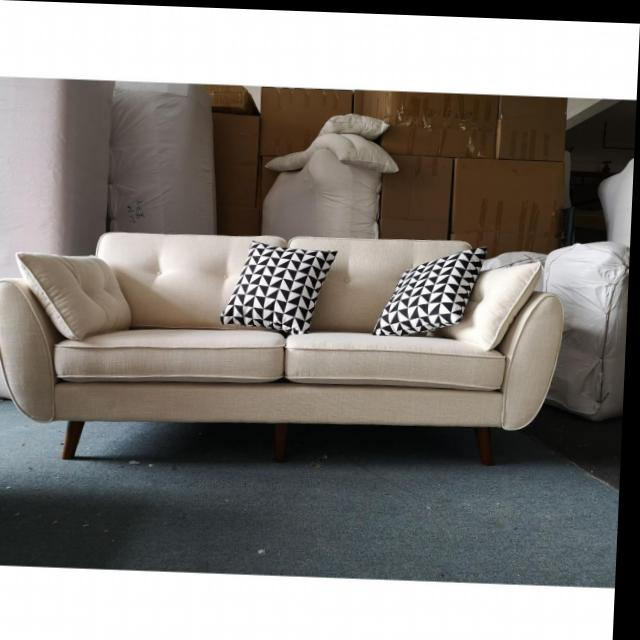Sofa: (0, 223, 569, 471)
